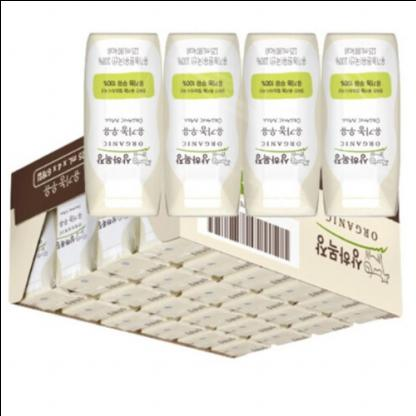tetra: (314, 28, 404, 224)
